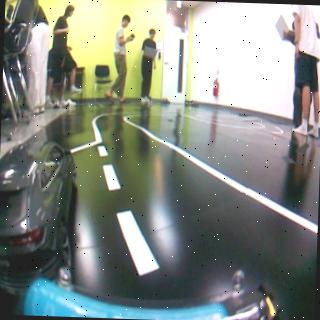car: (0, 130, 81, 294)
